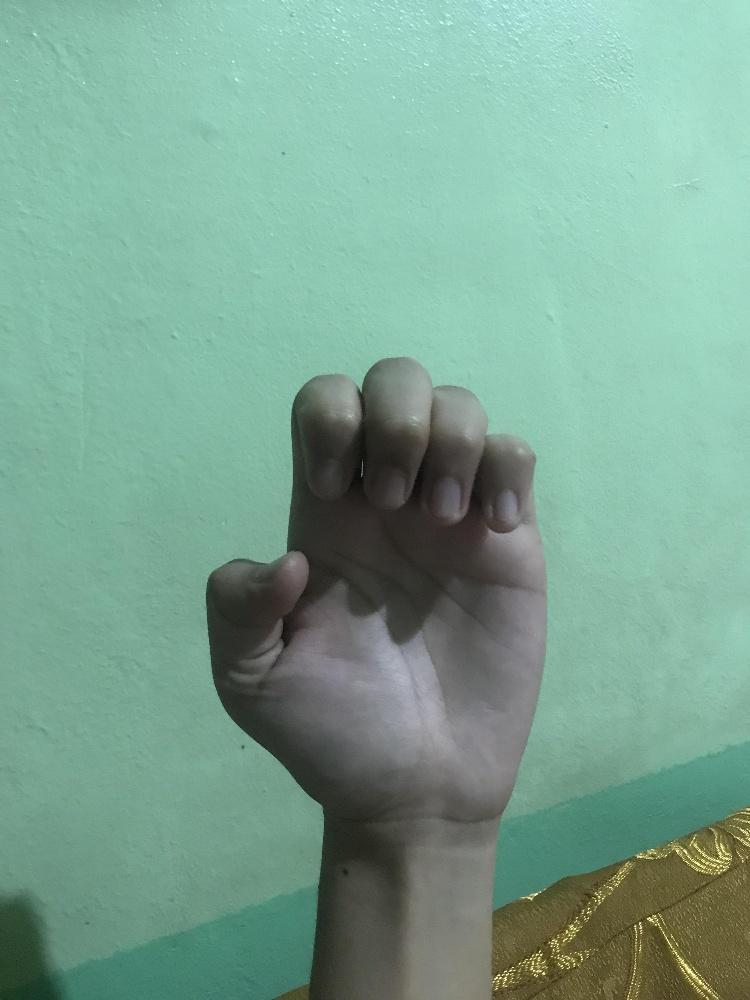e: (197, 350, 552, 822)
